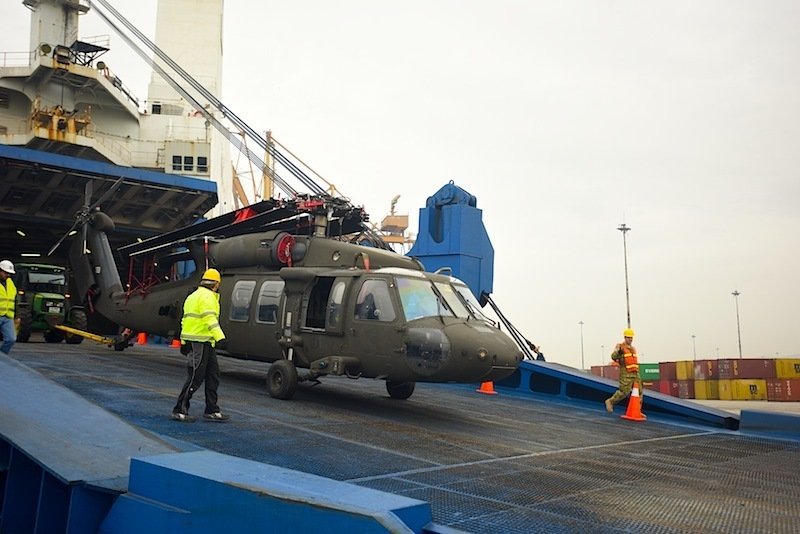MilitaryHelicopter: (242, 207, 532, 384)
